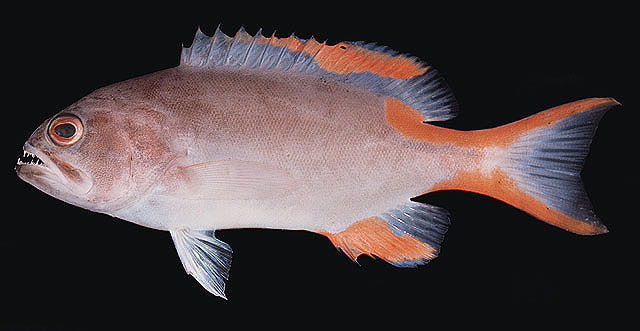fish: (15, 24, 622, 301)
